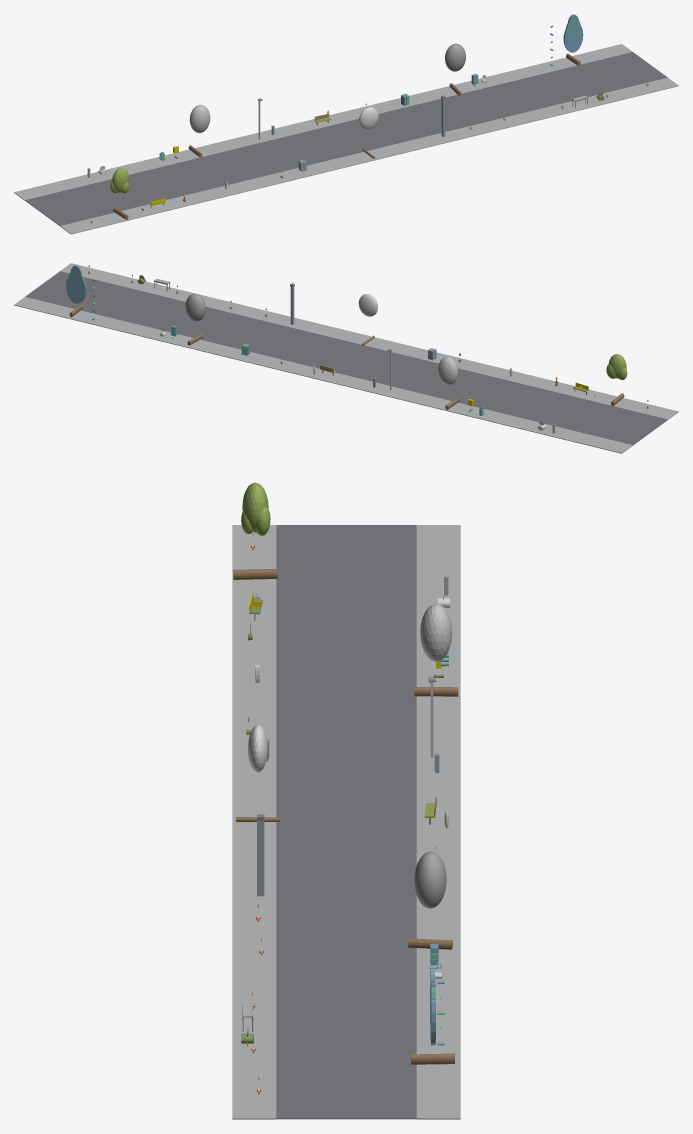
3 renders of one model, top to bottom at view 1: azimuth 30°, elevation 25°; view 2: azimuth 150°, elevation 25°; view 3: azimuth 270°, elevation 25°, orthographic. The views are drawn at different scales.
Parts seen in each view (by area): view 1: road_slab, sidewalk_left, sidewalk_right, inst_0016, inst_0015, inst_0013, inst_0012, inst_0014; view 2: road_slab, sidewalk_right, sidewalk_left, inst_0016, inst_0013, inst_0015, inst_0012, inst_0014; view 3: road_slab, sidewalk_left, sidewalk_right, inst_0013, inst_0015, inst_0012, inst_0014, inst_0016.
Boxes of the visible parts, bbox=[...] form: road_slab: bbox=[25, 52, 667, 225]; sidewalk_left: bbox=[60, 77, 678, 234]; sidewalk_right: bbox=[14, 44, 632, 200]; inst_0016: bbox=[563, 14, 583, 66]; inst_0015: bbox=[445, 43, 465, 95]; inst_0013: bbox=[188, 104, 210, 157]; inst_0012: bbox=[110, 168, 129, 219]; inst_0014: bbox=[359, 107, 378, 158]; road_slab: bbox=[25, 271, 667, 445]; sidewalk_right: bbox=[14, 297, 632, 453]; sidewalk_left: bbox=[60, 263, 678, 419]; inst_0016: bbox=[66, 265, 86, 317]; inst_0013: bbox=[438, 356, 459, 409]; inst_0015: bbox=[185, 293, 205, 345]; inst_0012: bbox=[606, 354, 627, 406]; inst_0014: bbox=[358, 294, 377, 345]; road_slab: bbox=[276, 525, 416, 1119]; sidewalk_left: bbox=[232, 525, 276, 1119]; sidewalk_right: bbox=[416, 525, 460, 1119]; inst_0013: bbox=[414, 603, 458, 696]; inst_0015: bbox=[408, 851, 452, 949]; inst_0012: bbox=[233, 482, 277, 579]; inst_0014: bbox=[236, 725, 279, 821]; inst_0016: bbox=[411, 968, 454, 1064].
Size of the model in its own units: 80 by 6.08 by 13.
